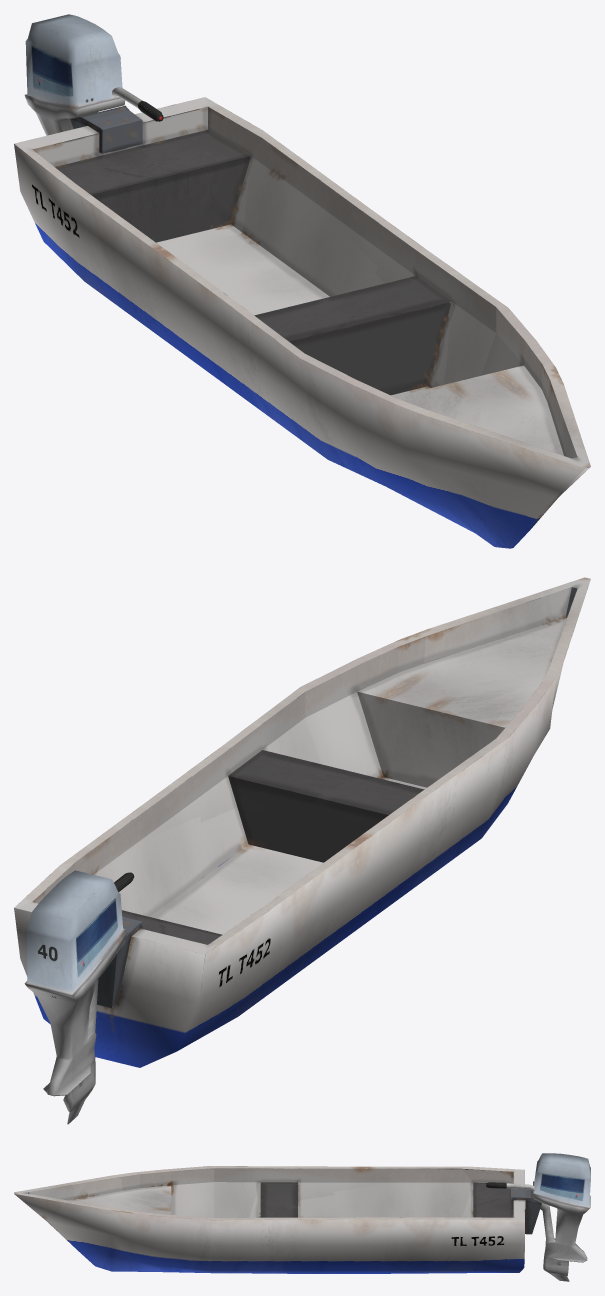
File: small boat animated.fbx
3 views of the same model, one above another, from view 1: azimuth 30°, elevation 25°; view 2: azimuth 150°, elevation 25°; view 3: azimuth 270°, elevation 25° (orthographic). The views are drawn at different scales.
Visible parts, largest first — view 1: Cube1; view 2: Cube1; view 3: Cube1.
Boxes of the visible parts, x1,y1,x2,y2 form: Cube1: (14,14,590,548); Cube1: (14,577,590,1124); Cube1: (14,1153,590,1281).
Bounding box in the file's own units: 832 × 884 × 3741.
Materials: 2 (2 with a texture image).
